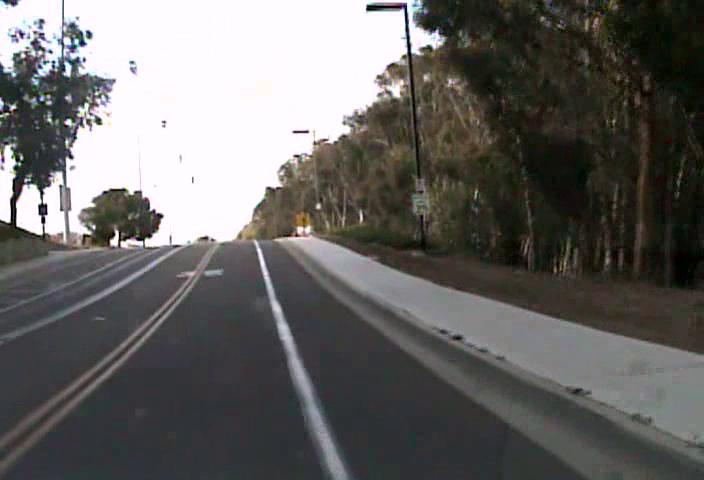speedLimitUrdbl: (410, 190, 430, 215)
